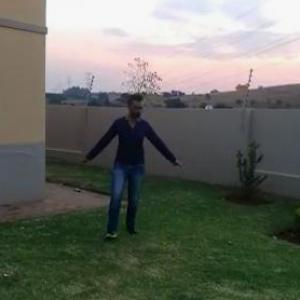land: (79, 91, 180, 248)
